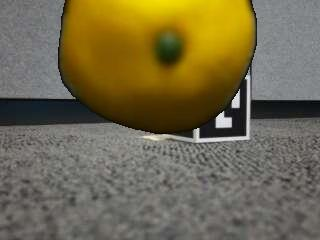lemon: (59, 0, 256, 131)
